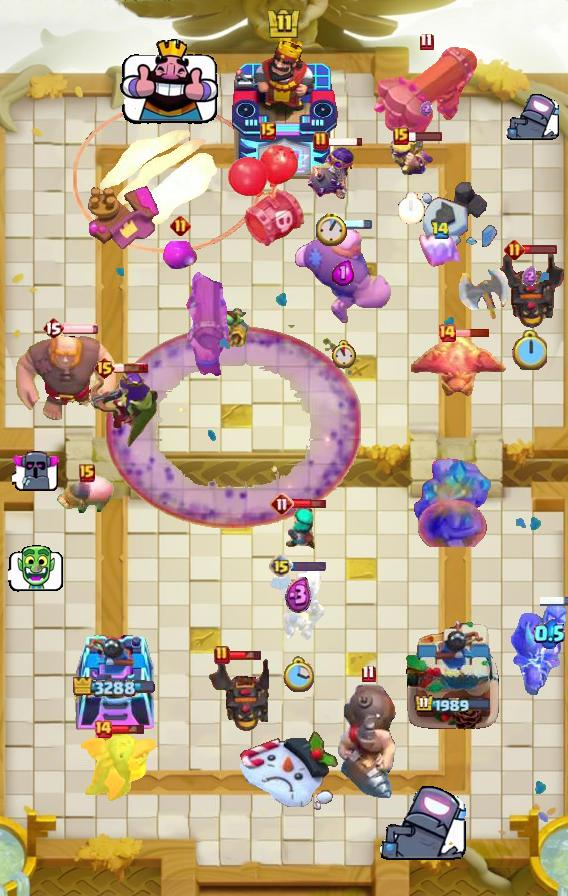archer-evolution: (492, 248, 566, 330), (203, 655, 269, 733)
arrows: (388, 134, 434, 177)
balloon: (292, 227, 394, 327), (13, 332, 121, 424)
barbarian-hut: (75, 364, 161, 450)
battle-healer: (183, 264, 231, 378)
cannoneer-tower: (410, 457, 500, 547)
electro-spirit: (285, 578, 312, 615), (535, 618, 565, 649), (332, 260, 354, 286), (523, 266, 538, 286), (420, 101, 432, 116)
electro-wizard: (77, 733, 157, 805)
elixir: (513, 330, 548, 370), (282, 656, 314, 694), (317, 212, 347, 246), (398, 192, 425, 224), (331, 339, 358, 368)
emote: (293, 497, 328, 511), (62, 322, 100, 334), (335, 218, 372, 230), (407, 130, 443, 142), (113, 362, 149, 374), (110, 723, 146, 735), (229, 649, 264, 661), (327, 136, 365, 147), (522, 245, 558, 256), (291, 560, 327, 571), (540, 595, 568, 609), (454, 328, 490, 338)
executioner: (57, 471, 117, 517)
furnace: (372, 43, 480, 153)
giant-snowball: (202, 306, 250, 348)
goblin-ball: (306, 146, 356, 200)
ice-wizard: (74, 104, 263, 253)
inferno-dragon: (510, 601, 568, 695)
king-tower: (230, 41, 338, 181)
miner: (162, 241, 198, 271)
mini-pekka: (266, 564, 330, 646)
mirror: (417, 229, 463, 271)
mother-witch: (411, 332, 513, 402)
queen-tower: (404, 617, 502, 731), (73, 623, 155, 731)
rocket: (105, 325, 361, 529)
royal-giant: (458, 269, 510, 321)
royal-recruit-evolution: (227, 144, 309, 250)
selected: (73, 677, 155, 699), (414, 693, 492, 714)
skeleton: (121, 38, 220, 126), (376, 786, 466, 864), (505, 94, 560, 142), (8, 545, 64, 592), (12, 449, 60, 492)
text: (270, 492, 294, 516), (269, 554, 293, 578), (93, 356, 116, 380), (42, 316, 64, 340), (169, 215, 190, 237), (504, 239, 525, 261), (437, 323, 457, 343), (93, 719, 113, 739), (430, 220, 450, 239), (313, 131, 329, 151), (214, 645, 230, 665), (260, 122, 276, 140), (393, 127, 409, 145), (79, 464, 95, 482), (360, 665, 375, 683), (419, 33, 433, 51)
witch: (282, 502, 318, 554)
wizard: (336, 683, 400, 801)
